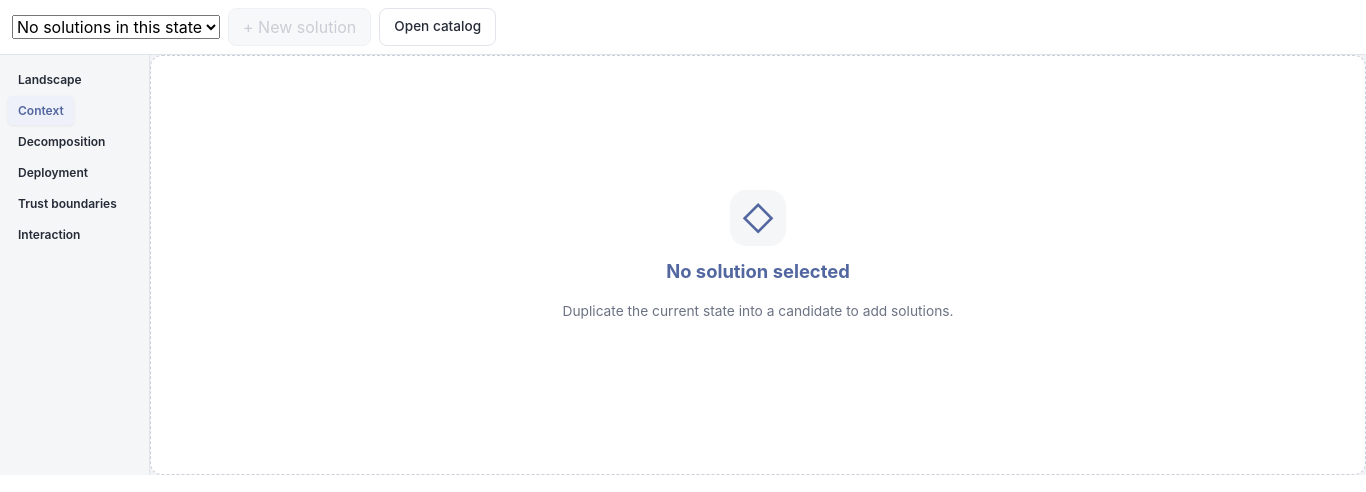
Test: SolutionWorkbench › shows contained objects and highlights crossing flows in trust boundaries
Click the button "Trust boundaries" at x=67, y=204, box top-left (8, 189), bottom-right (127, 218)
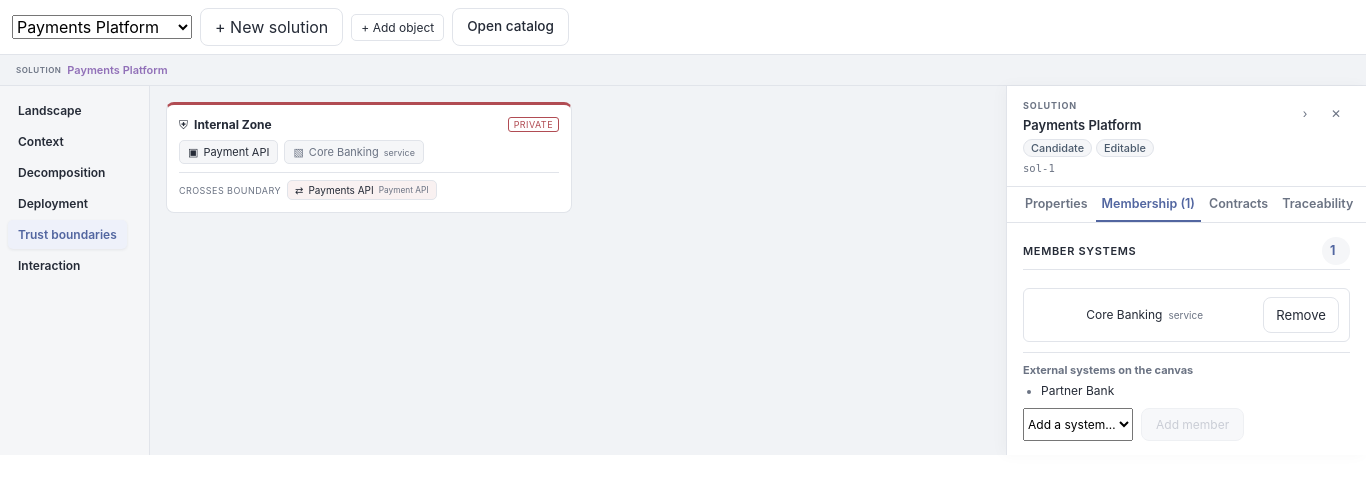
Check: the text "Core Banking" is shown, box top-left (309, 145), bottom-right (379, 159)
Check: the text "Payments API" is shown, box top-left (308, 184), bottom-right (374, 196)
Check: the text "private" is shown, box top-left (508, 117), bottom-right (559, 132)
